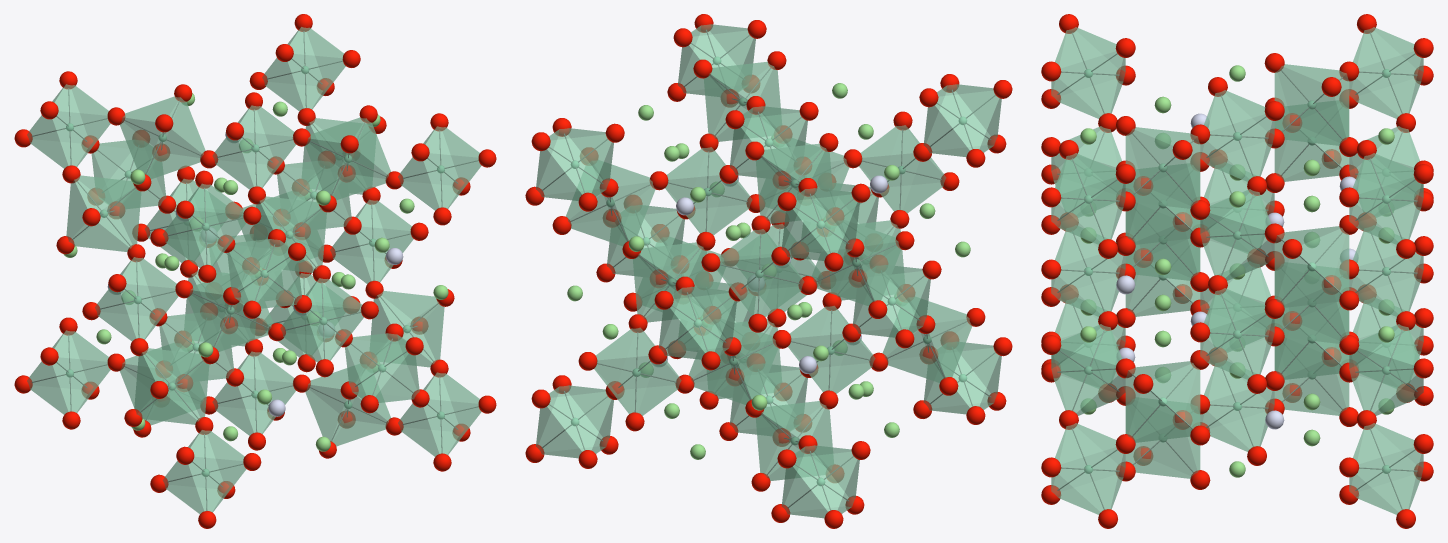
3 renders of one model, left to right at view 1: azimuth 30°, elevation 25°; view 2: azimuth 150°, elevation 25°; view 3: azimuth 270°, elevation 25°, orthographic. The views are drawn at different scales.
Parts seen in each view (by area): view 1: Shape_IndexedFaceSet, atom3_IndexedFaceSet, Shape_Cylinder, atom0_IndexedFaceSet, atom2_IndexedFaceSet, atom4_IndexedFaceSet; view 2: Shape_IndexedFaceSet, atom3_IndexedFaceSet, Shape_Cylinder, atom0_IndexedFaceSet, atom2_IndexedFaceSet, atom4_IndexedFaceSet; view 3: Shape_IndexedFaceSet, atom3_IndexedFaceSet, Shape_Cylinder, atom0_IndexedFaceSet, atom4_IndexedFaceSet, atom2_IndexedFaceSet.
Boxes of the visible parts, x1,y1,x2,y2 form: Shape_IndexedFaceSet: [27, 27, 481, 513]; atom3_IndexedFaceSet: [14, 14, 496, 528]; Shape_Cylinder: [31, 31, 478, 510]; atom0_IndexedFaceSet: [63, 93, 448, 451]; atom2_IndexedFaceSet: [66, 66, 444, 476]; atom4_IndexedFaceSet: [107, 132, 403, 416]; Shape_IndexedFaceSet: [536, 24, 1001, 518]; atom3_IndexedFaceSet: [525, 14, 1012, 528]; Shape_Cylinder: [542, 30, 995, 510]; atom0_IndexedFaceSet: [567, 83, 970, 459]; atom2_IndexedFaceSet: [570, 56, 966, 486]; atom4_IndexedFaceSet: [651, 175, 887, 373]; Shape_IndexedFaceSet: [1051, 27, 1423, 514]; atom3_IndexedFaceSet: [1041, 14, 1433, 528]; Shape_Cylinder: [1057, 32, 1417, 509]; atom0_IndexedFaceSet: [1080, 65, 1394, 477]; atom4_IndexedFaceSet: [1116, 113, 1358, 429]; atom2_IndexedFaceSet: [1084, 69, 1390, 473].
Bounding box in the file's own units: 13.76 × 13.76 × 13.76.
